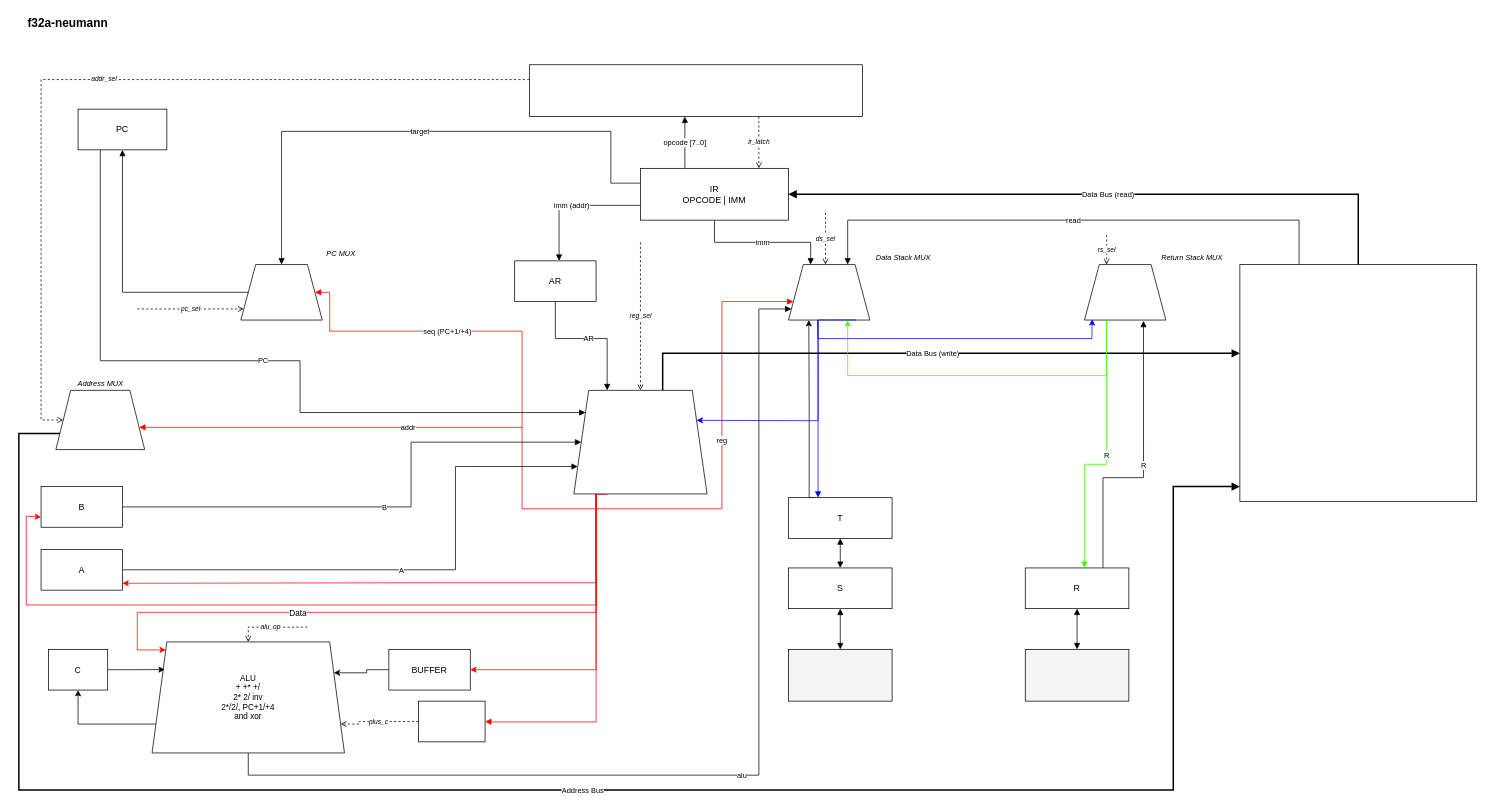
This 1490x809 diagram has some shape labels left out. The centre of each missing label's shape, as x and y in pixels:
Control Unit (decoder): point (695, 90)
Data Stack: point (840, 675)
EAM: point (451, 721)
MEM (shared code + data, von Neumann): point (1358, 382)
Register MUX: point (640, 442)
Return Stack: point (1077, 675)
